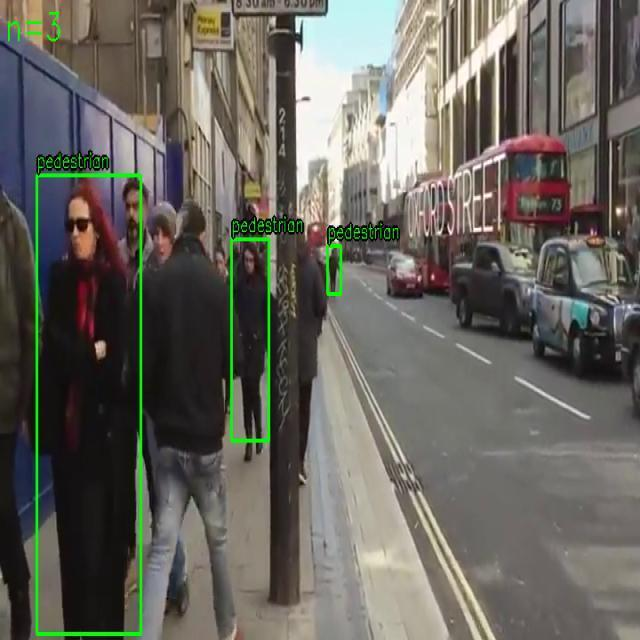person: (36, 175, 142, 634), (231, 238, 269, 442), (327, 245, 341, 295)
